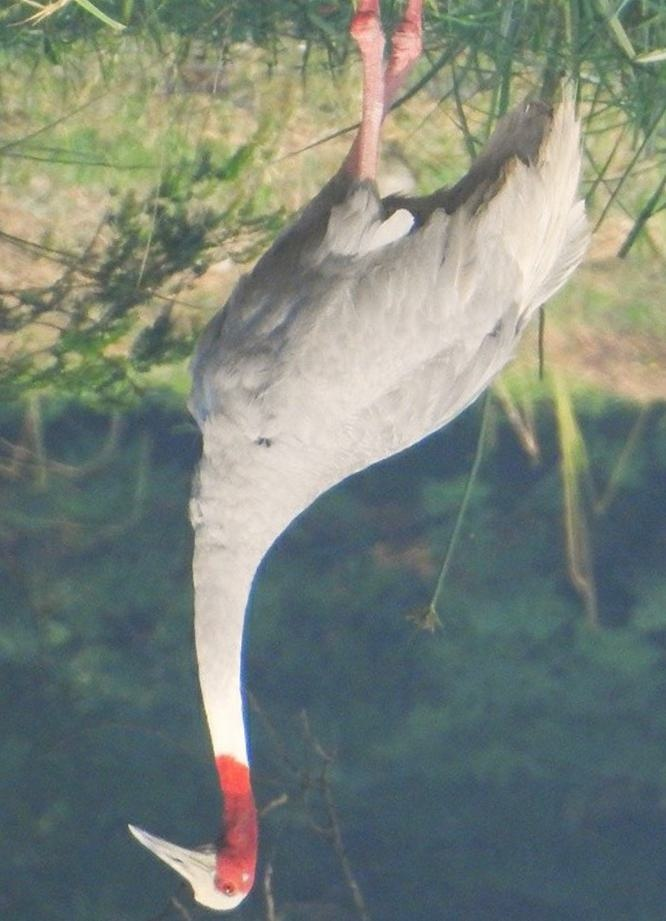crane: (113, 2, 595, 921)
